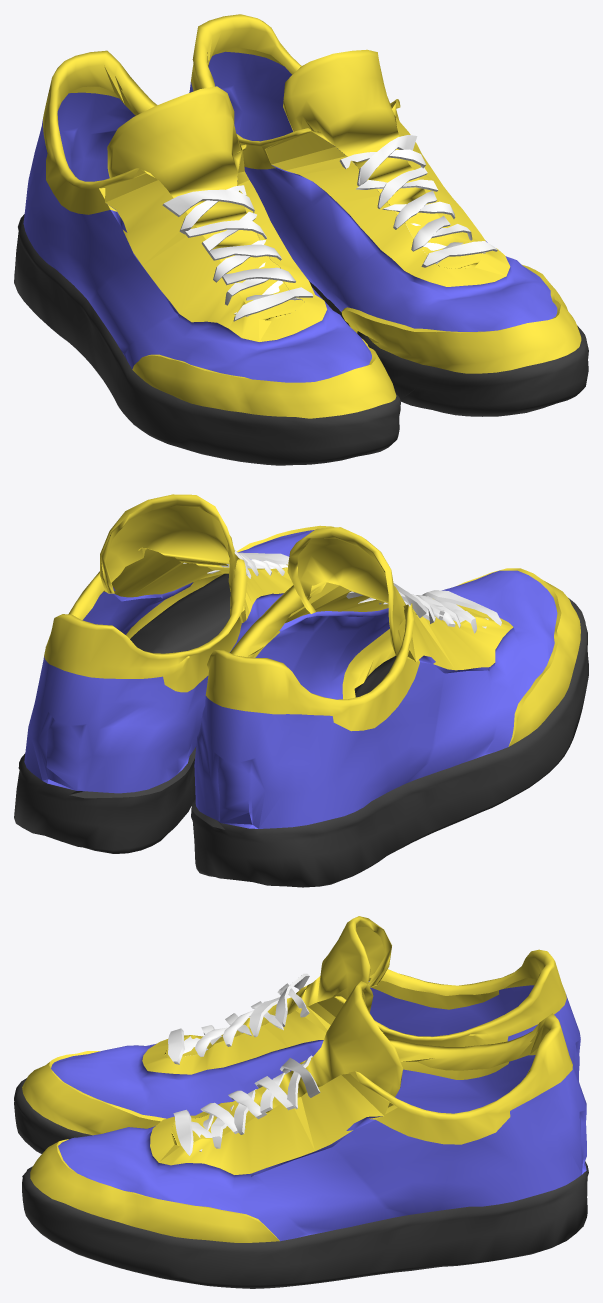
File: sniker.glb
The picture shows the model from 3 angles, top to bottom: view 1: azimuth 30°, elevation 25°; view 2: azimuth 150°, elevation 25°; view 3: azimuth 270°, elevation 25°; orthographic projection. The views are drawn at different scales.
Visible parts, largest first — view 1: shoe02, shoe003; view 2: shoe02, shoe003; view 3: shoe003, shoe02.
Part boxes in pixels (bbox=[...]): shoe02: bbox=[14, 50, 400, 465]; shoe003: bbox=[189, 14, 588, 416]; shoe02: bbox=[191, 527, 588, 887]; shoe003: bbox=[14, 494, 334, 853]; shoe003: bbox=[22, 981, 588, 1288]; shoe02: bbox=[14, 916, 580, 1153].
Size of the model in its own units: 0.1049 by 0.0676 by 0.1412.
